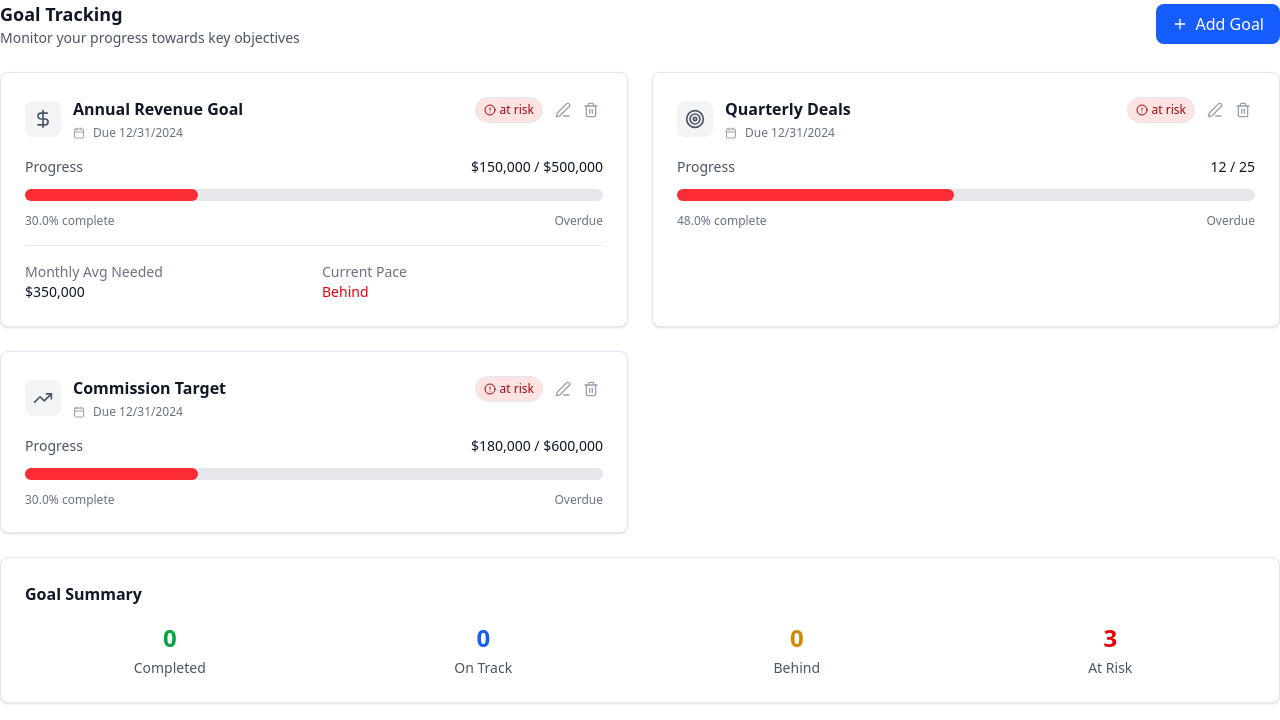
GoalTracker › should open add goal modal when Add Goal button is clicked
Click the button "Add Goal" at (1218, 24), box 1156,4 -> 1279,44
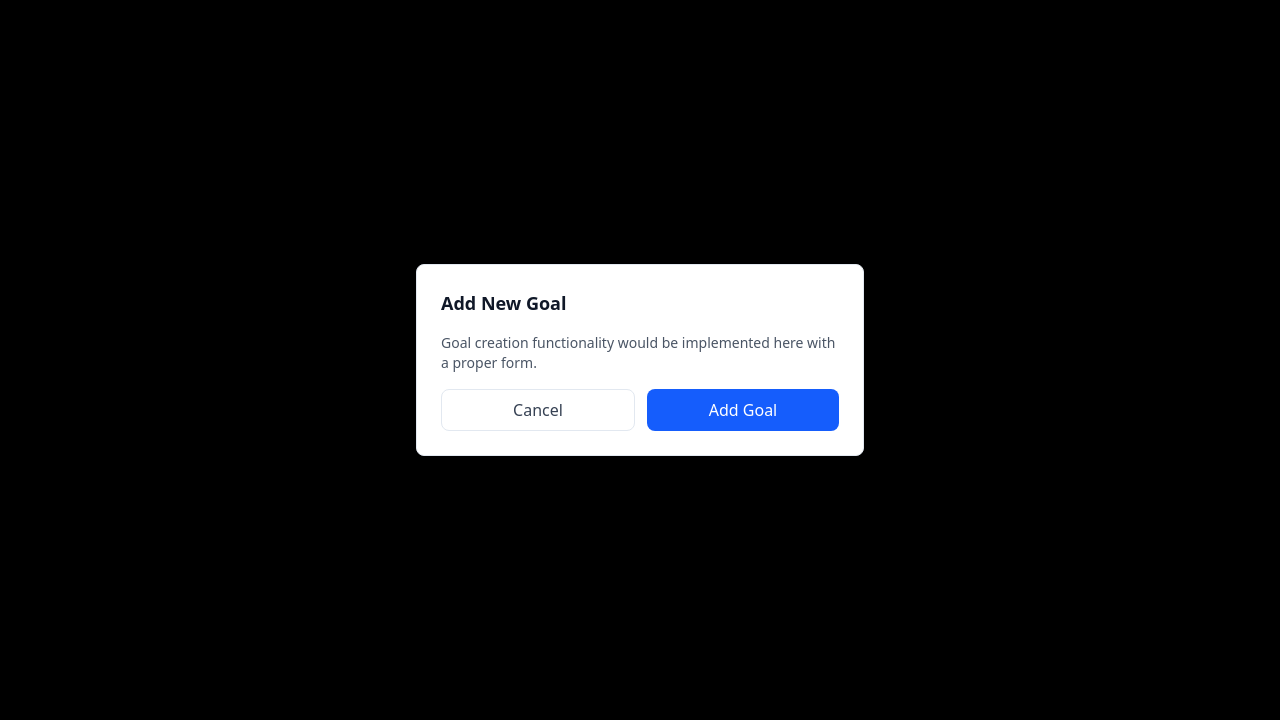
Expected: the heading "Add New Goal" is shown, 441,291 -> 566,315
Expected: the text "Goal creation functionality would be implemented here with a proper form." is shown, 441,333 -> 839,373
